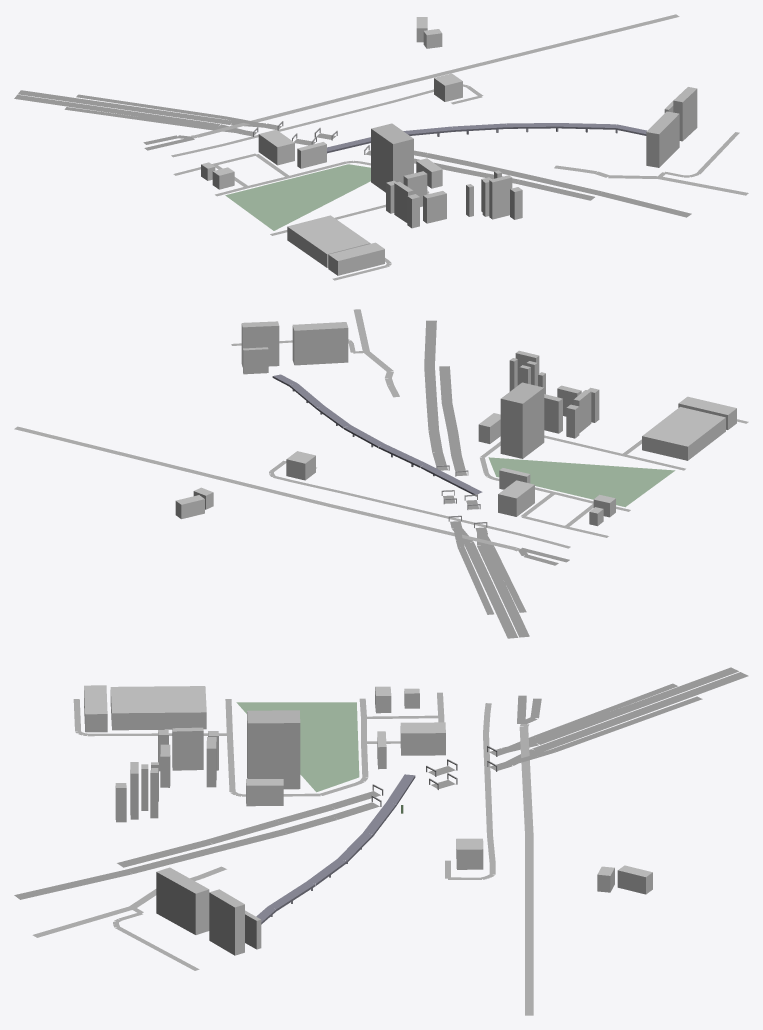
3 renders of one model, top to bottom at view 1: azimuth 30°, elevation 25°; view 2: azimuth 150°, elevation 25°; view 3: azimuth 270°, elevation 25°, orthographic. The views are drawn at different scales.
Size of the model in its own units: 675 by 61.5 by 600.
